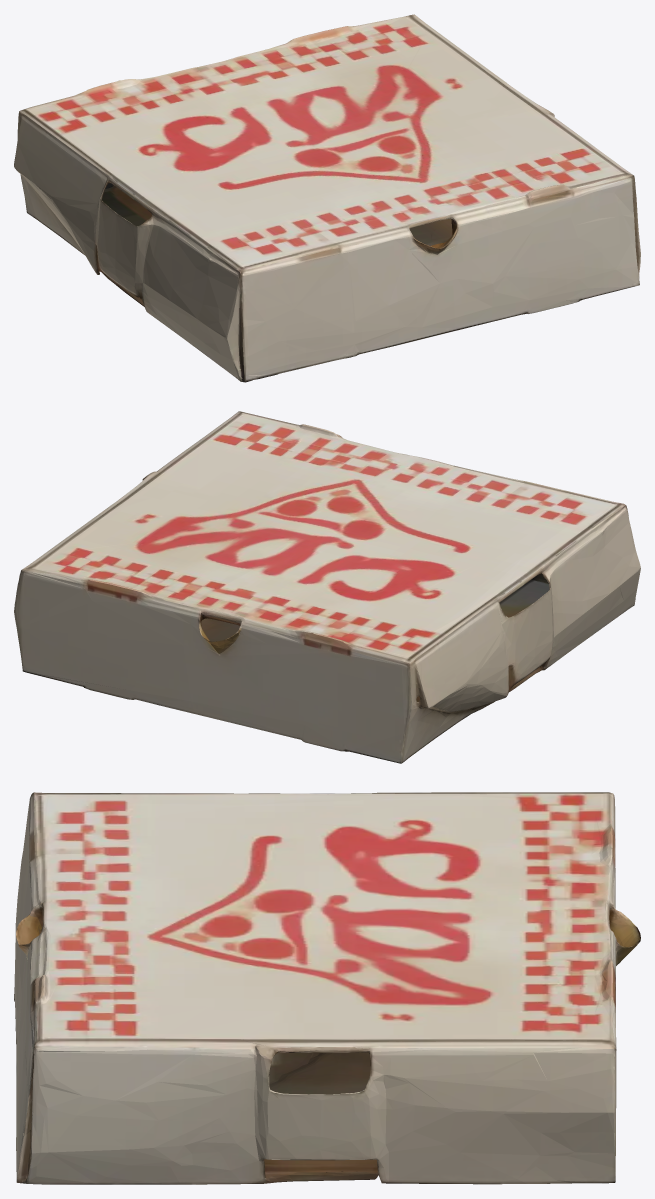
3 views of the same model, one above another, from view 1: azimuth 30°, elevation 25°; view 2: azimuth 150°, elevation 25°; view 3: azimuth 270°, elevation 25° (orthographic). The views are drawn at different scales.
Visible parts, largest first — view 1: geometry_0; view 2: geometry_0; view 3: geometry_0.
Boxes of the visible parts, x1,y1,x2,y2 form: geometry_0: (14, 14, 640, 382); geometry_0: (14, 411, 640, 763); geometry_0: (14, 792, 640, 1184).
Size of the model in its own units: 0.9943 by 0.2546 by 0.9742.
Materials: 1 (1 with a texture image).
